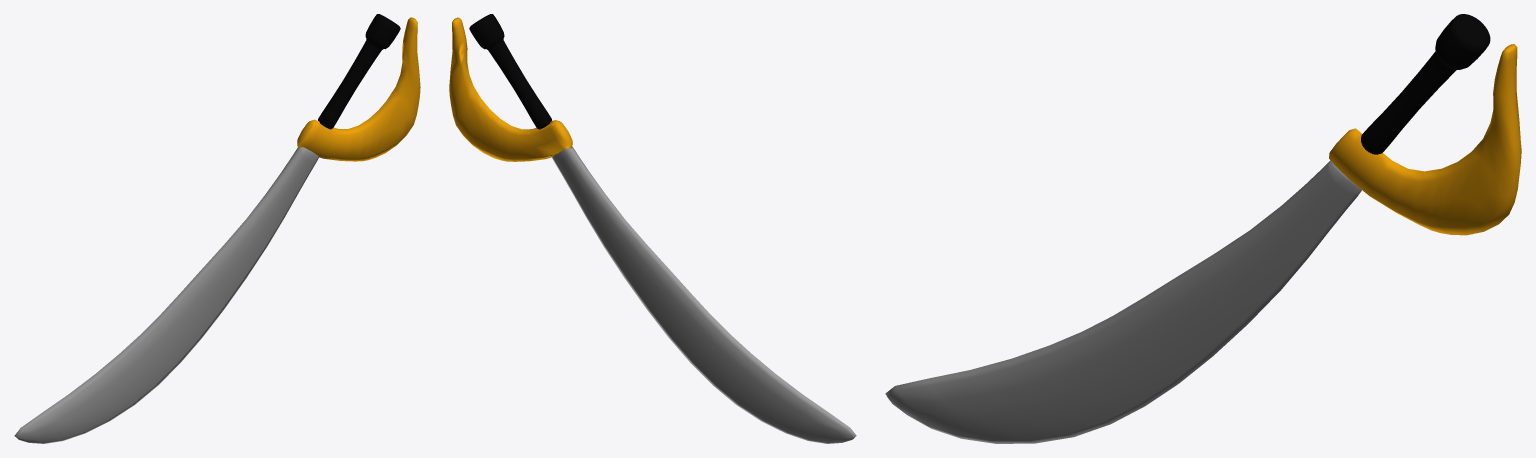
The model's file is Sword.fbx.
3 views of the same model, side by side, from view 1: azimuth 30°, elevation 25°; view 2: azimuth 150°, elevation 25°; view 3: azimuth 330°, elevation 25° (orthographic). The views are drawn at different scales.
Parts seen in each view (by area): view 1: Cutlass.001; view 2: Cutlass.001; view 3: Cutlass.001.
Part boxes in pixels (bbox=[...]): Cutlass.001: bbox=[14, 14, 420, 443]; Cutlass.001: bbox=[449, 14, 856, 443]; Cutlass.001: bbox=[885, 14, 1521, 443].
Bounding box in the file's own units: 479 × 393 × 29.44.
